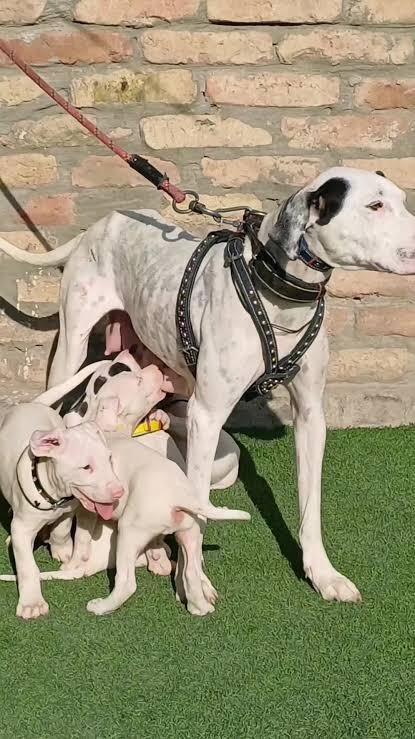adult_dog: (1, 165, 415, 607)
puppy-dog: (54, 417, 251, 618), (0, 395, 126, 622), (39, 346, 185, 435)
